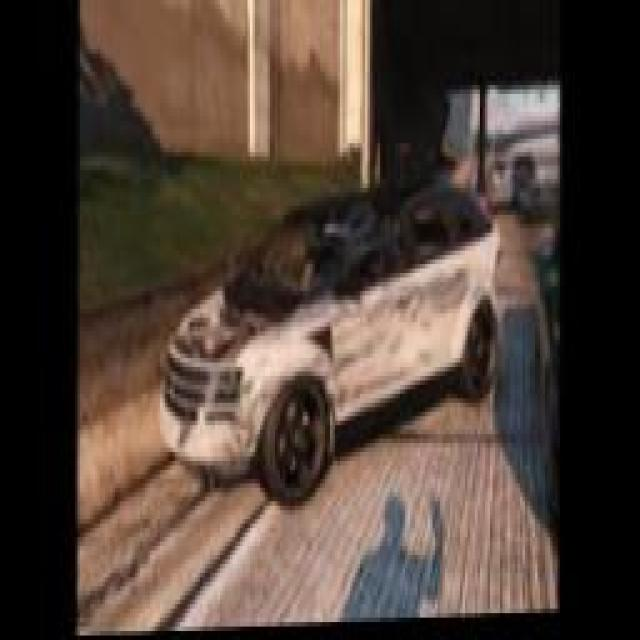Bonnet: (174, 285, 298, 365)
Door: (329, 256, 463, 426)
Windshield: (242, 206, 388, 312)
